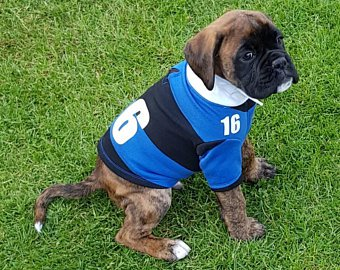dog: (116, 9, 298, 250)
